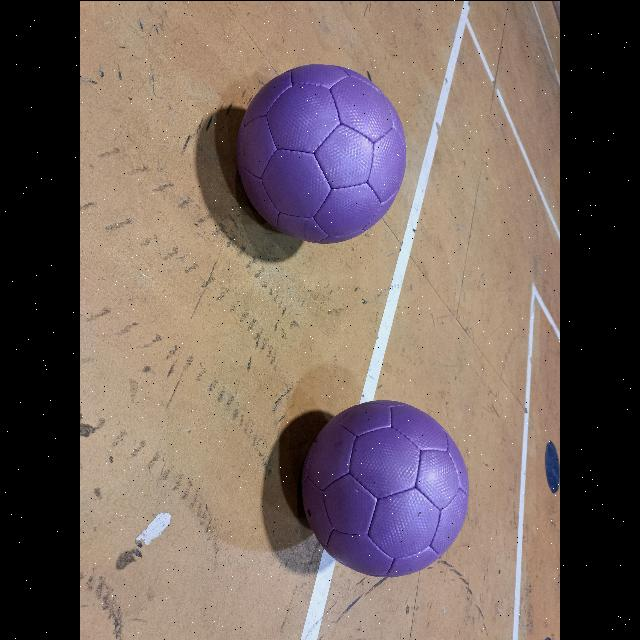P: (238, 64, 407, 242), (302, 399, 468, 576)
